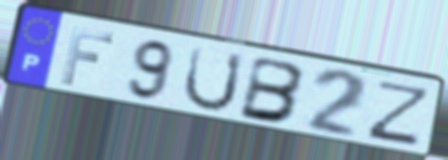2: (304, 67, 370, 141)
9: (124, 37, 177, 103)
B: (236, 53, 309, 126)
F: (58, 25, 118, 88)
U: (179, 44, 246, 114)
Z: (362, 79, 435, 148)
